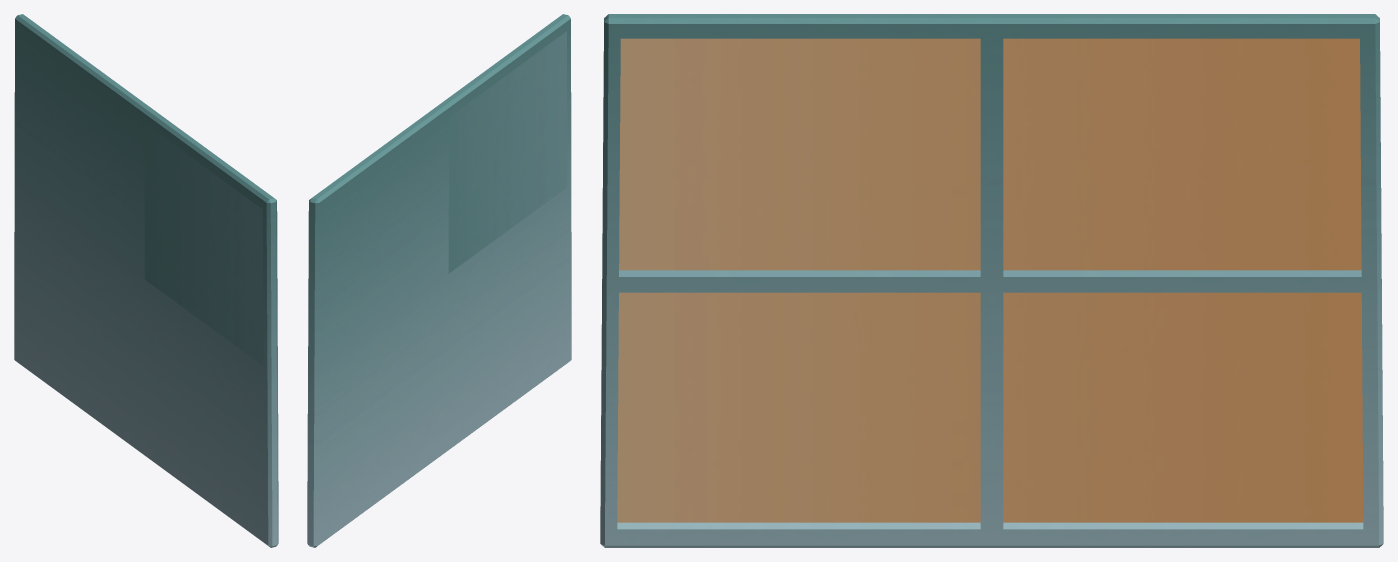
The model's file is SM_window.fbx.
3 renders of one model, left to right at view 1: azimuth 30°, elevation 25°; view 2: azimuth 150°, elevation 25°; view 3: azimuth 270°, elevation 25°, orthographic. The views are drawn at different scales.
Visible parts, largest first — view 1: Windowframe; view 2: Windowframe; view 3: Windows, Windowframe.
Part boxes in pixels (x1,y1,x2,y2): Windowframe: [14, 14, 278, 547]; Windowframe: [307, 14, 571, 547]; Windows: [617, 38, 1363, 522]; Windowframe: [600, 14, 1383, 547].
Bounding box in the file's own units: 5.51 × 167 × 224.
Materials: 1 (1 with a texture image).
